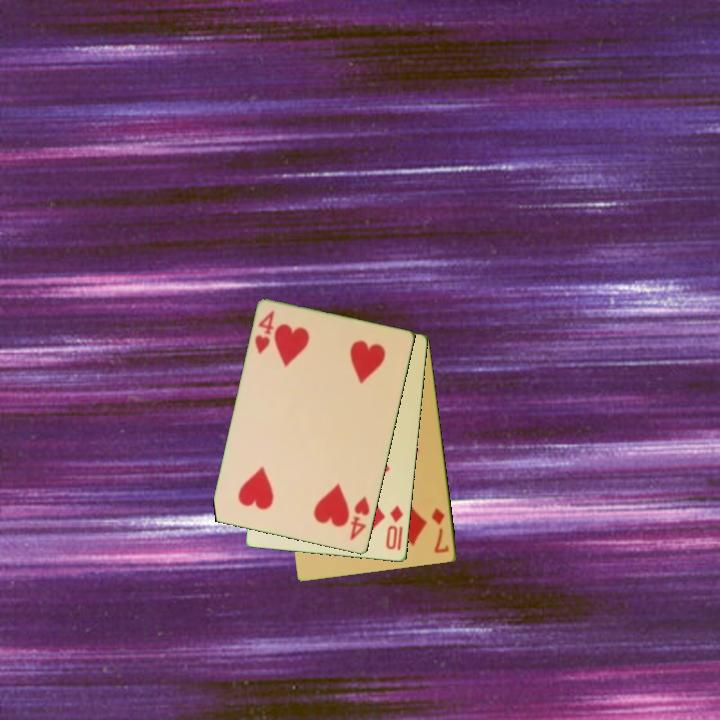10d: (382, 502, 406, 553)
4h: (251, 307, 278, 357), (347, 493, 373, 544)
7d: (428, 504, 452, 556)
